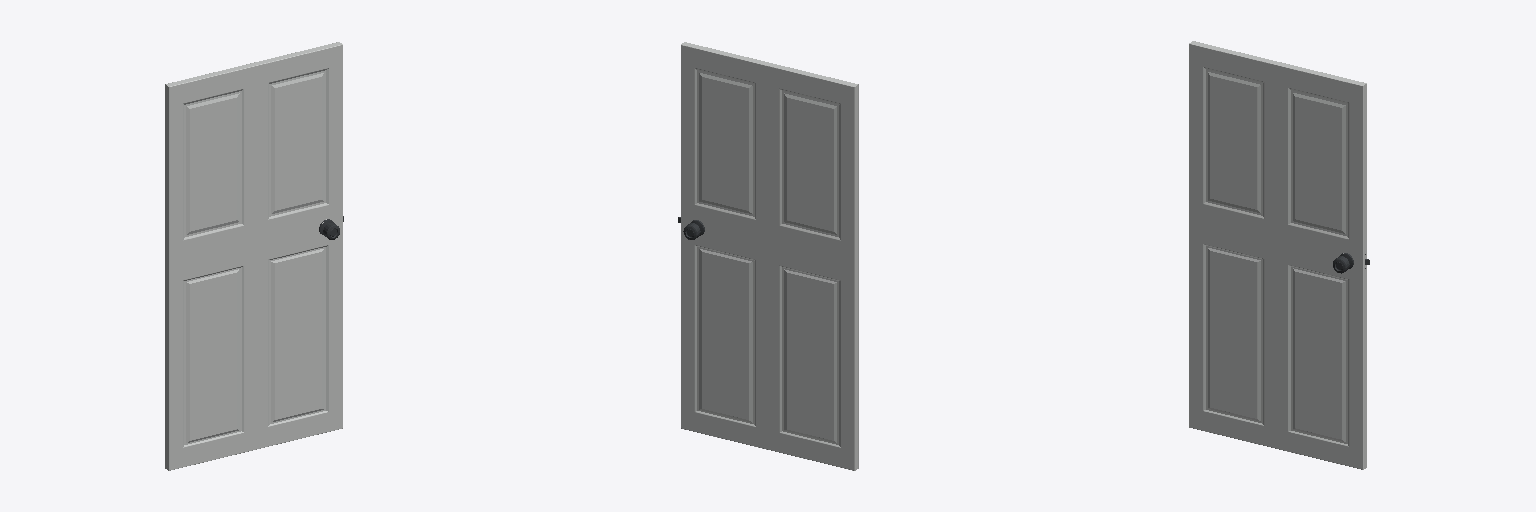
3 renders of one model, left to right at view 1: azimuth 30°, elevation 25°; view 2: azimuth 150°, elevation 25°; view 3: azimuth 330°, elevation 25°, orthographic.
Parts seen in each view (by area): view 1: Piso:Puerta1:Ctrl_Door_01DoorRig_01DoorLatch_01Ctrl_ManualLatch_; view 2: Piso:Puerta1:Ctrl_Door_01DoorRig_01DoorLatch_01Ctrl_ManualLatch_; view 3: Piso:Puerta1:Ctrl_Door_01DoorRig_01DoorLatch_01Ctrl_ManualLatch_.
Boxes of the visible parts, x1,y1,x2,y2 form: Piso:Puerta1:Ctrl_Door_01DoorRig_01DoorLatch_01Ctrl_ManualLatch_: [165, 42, 343, 470]; Piso:Puerta1:Ctrl_Door_01DoorRig_01DoorLatch_01Ctrl_ManualLatch_: [678, 42, 858, 470]; Piso:Puerta1:Ctrl_Door_01DoorRig_01DoorLatch_01Ctrl_ManualLatch_: [1189, 41, 1369, 469].
Size of the model in its own units: 3.11 by 6.43 by 0.5868.
2 materials, 2 textured.